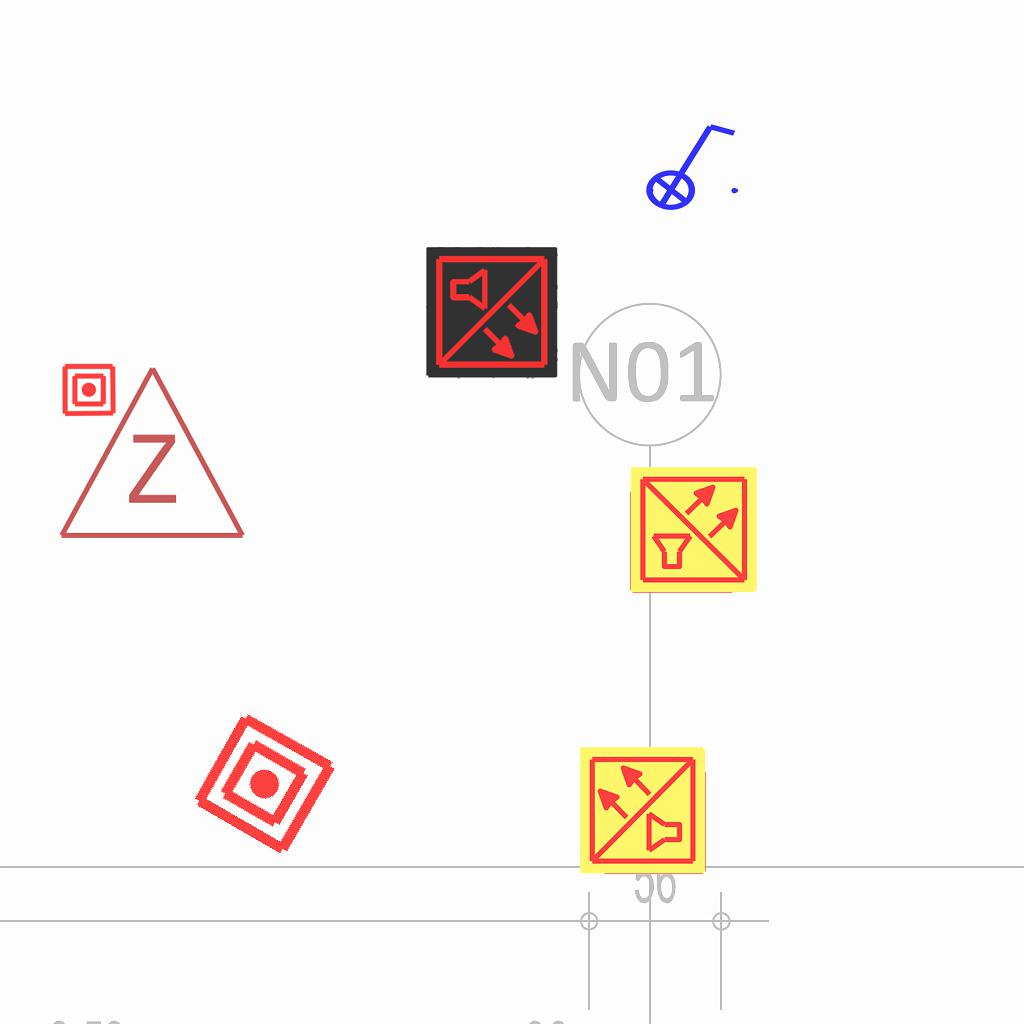Ausschalter_beleuchtet: (632, 116, 744, 212)
NAM-Nichtautomatischer_Melder: (187, 706, 342, 861), (61, 362, 117, 418)
OKW_Multisensormelder_(Kombination_optischer_Rauch-Kahlenmonoxid_Waerme-Melder): (628, 464, 760, 596), (577, 744, 709, 876), (426, 247, 558, 379)
Zimmersignalleuchte: (52, 353, 248, 553)
